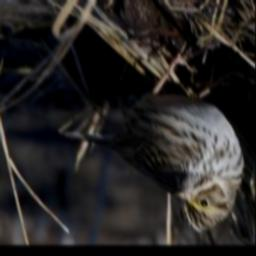Sparrow: (60, 43, 246, 234)
